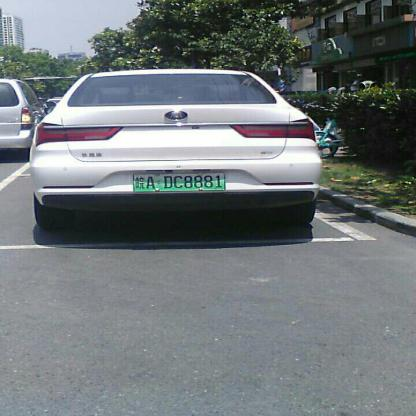lp: (133, 170, 225, 192)
